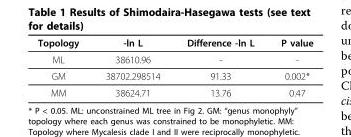table: (37, 36, 312, 97)
table column: (172, 36, 266, 97), (91, 36, 172, 97), (37, 36, 91, 97), (266, 36, 312, 97)
table column header: (37, 36, 312, 50)
table row: (37, 50, 312, 67), (37, 67, 312, 84), (37, 36, 312, 50), (37, 84, 312, 97)
